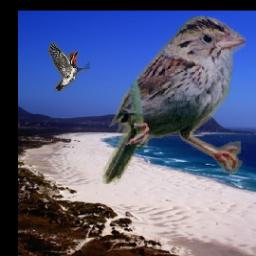Sparrow: (103, 15, 247, 184)
Woodpecker: (48, 41, 90, 91)
